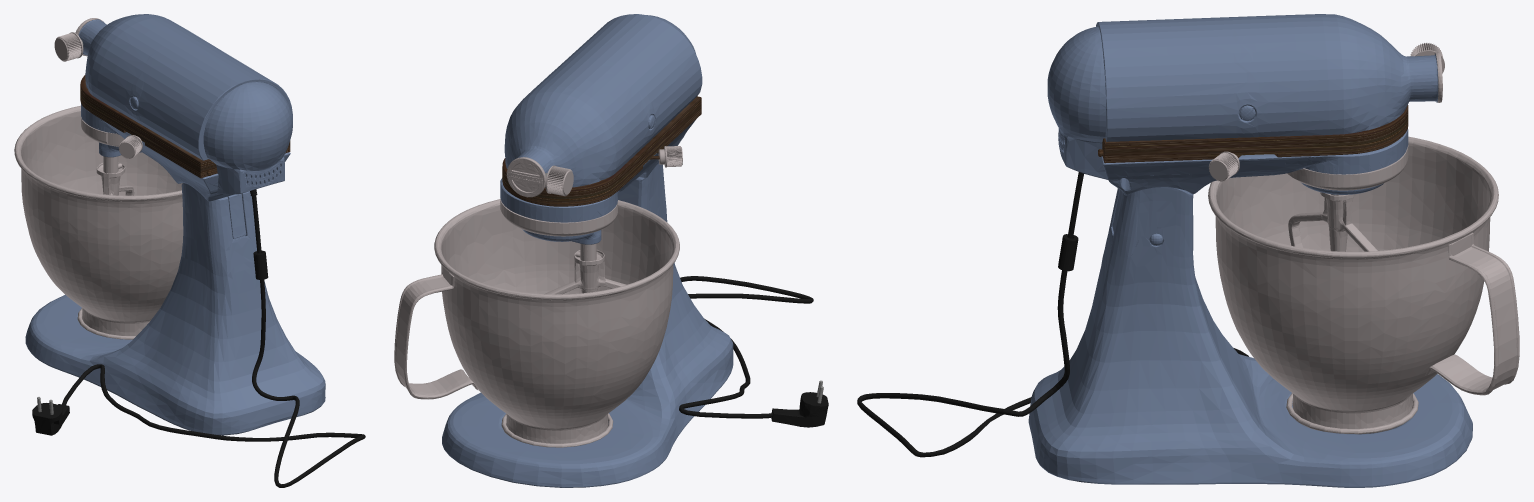
File: mixer_blue.glb
3 views of the same model, side by side, from view 1: azimuth 30°, elevation 25°; view 2: azimuth 150°, elevation 25°; view 3: azimuth 270°, elevation 25° (orthographic). The views are drawn at different scales.
Size of the model in its own units: 0.1138 by 0.1288 by 0.1883.
10 materials, 1 textured.
